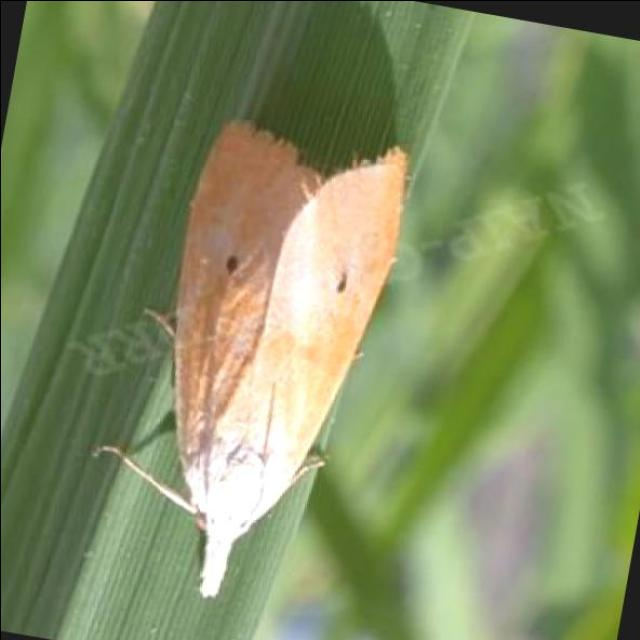stem borer: (98, 123, 408, 596)
